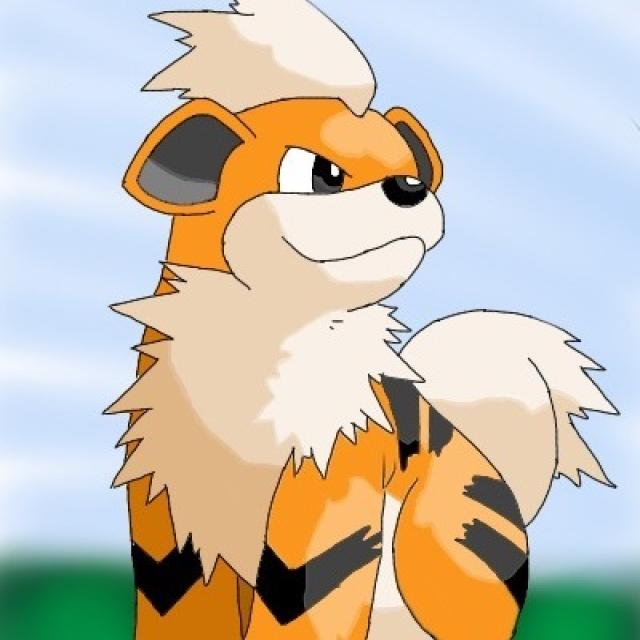Growlithe: (117, 6, 540, 634)
